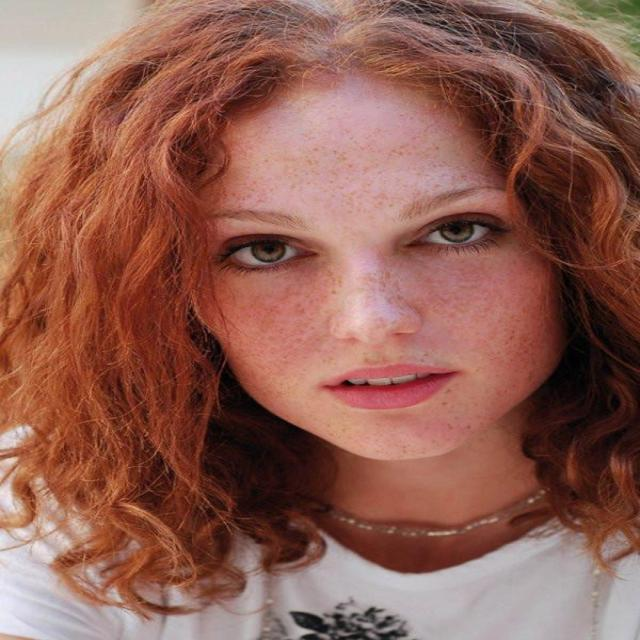freckle: (223, 259, 554, 380), (230, 111, 453, 209)
